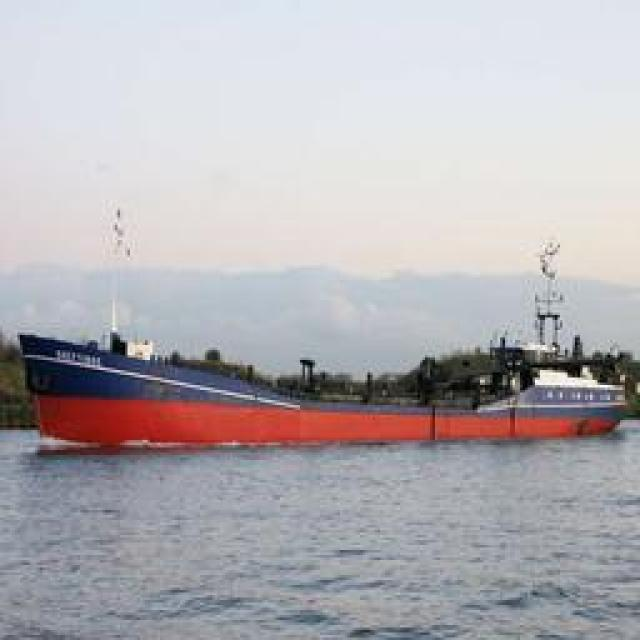Ship: (15, 336, 618, 449)
